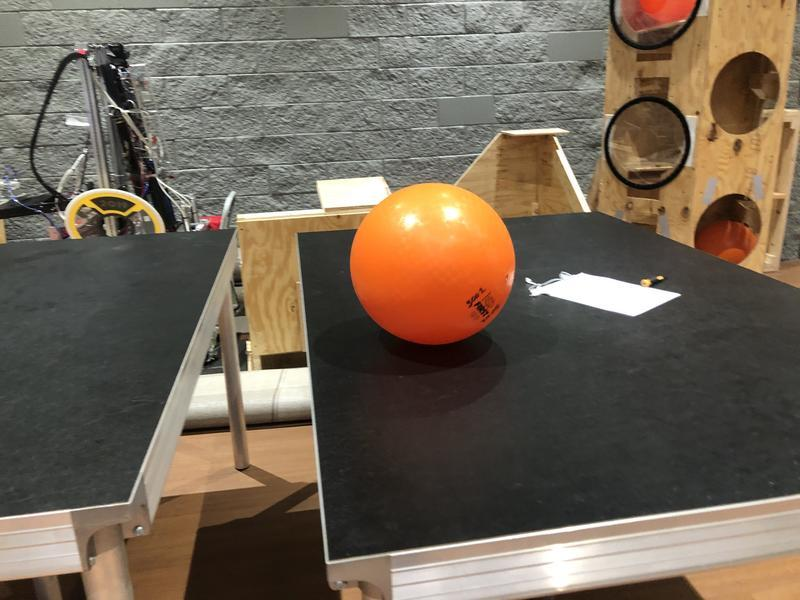ball: (349, 181, 518, 347)
